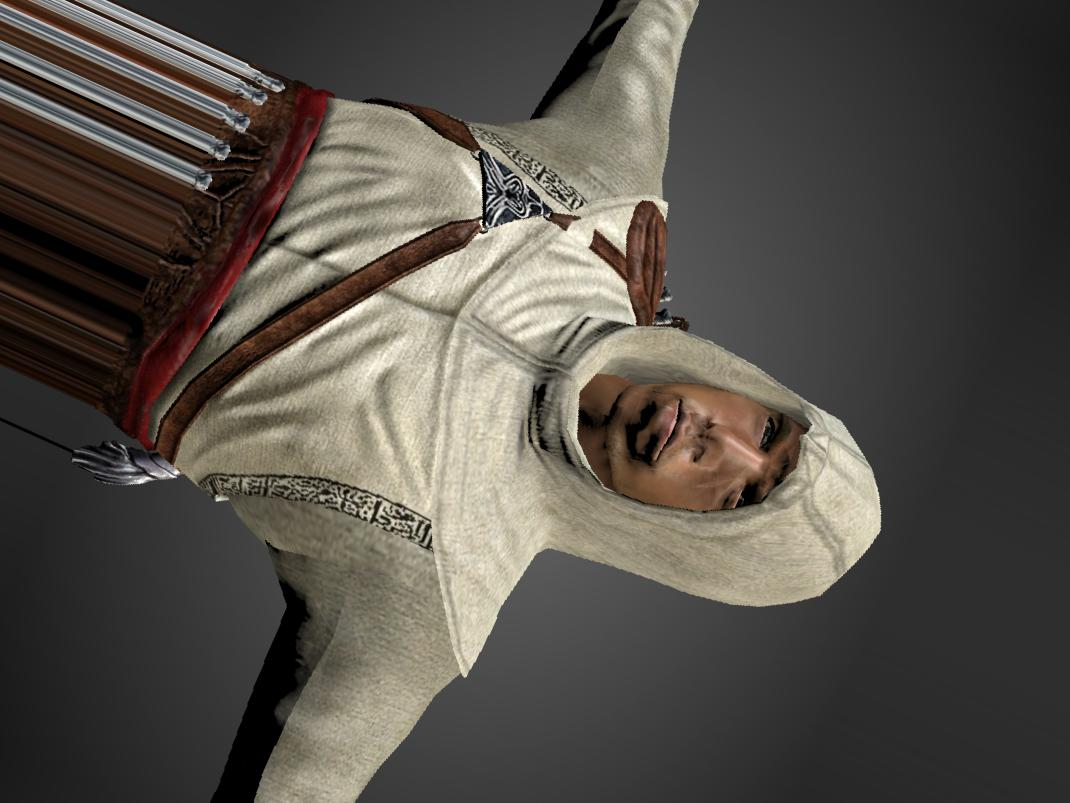clip: (554, 209, 605, 257)
